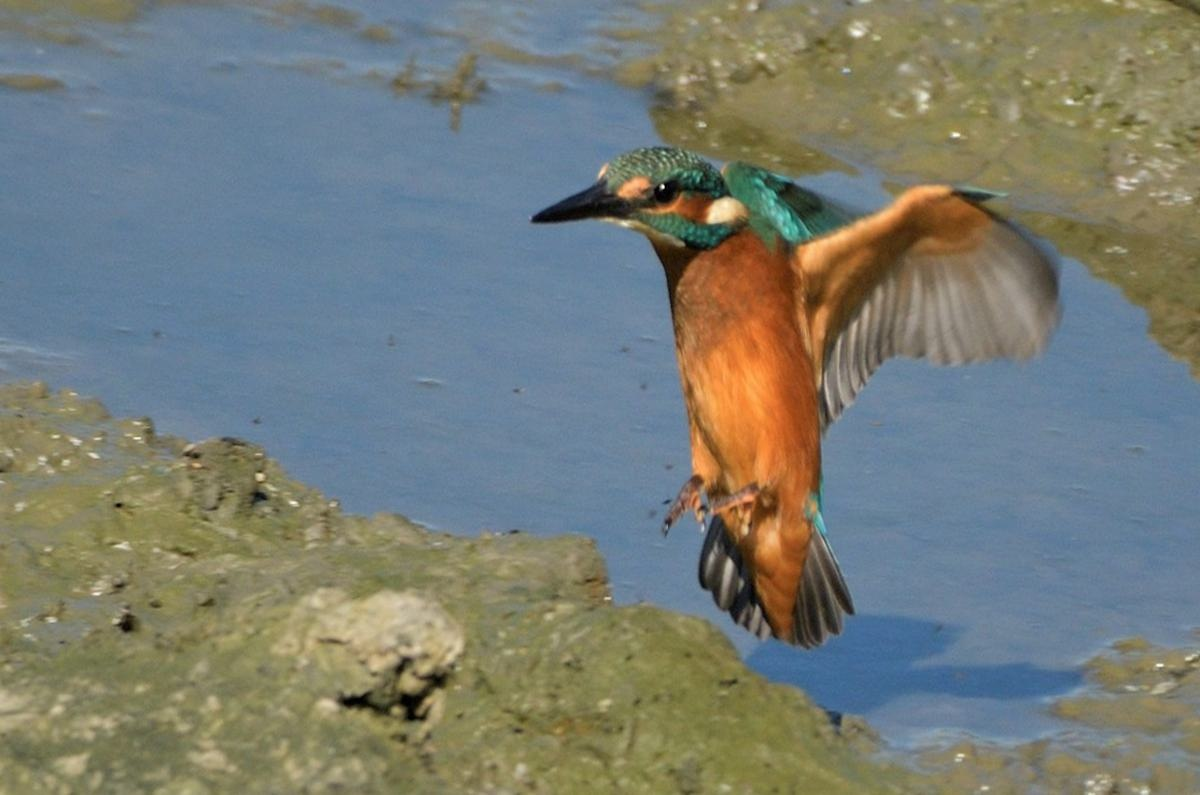kingfisher: (535, 135, 1074, 648)
